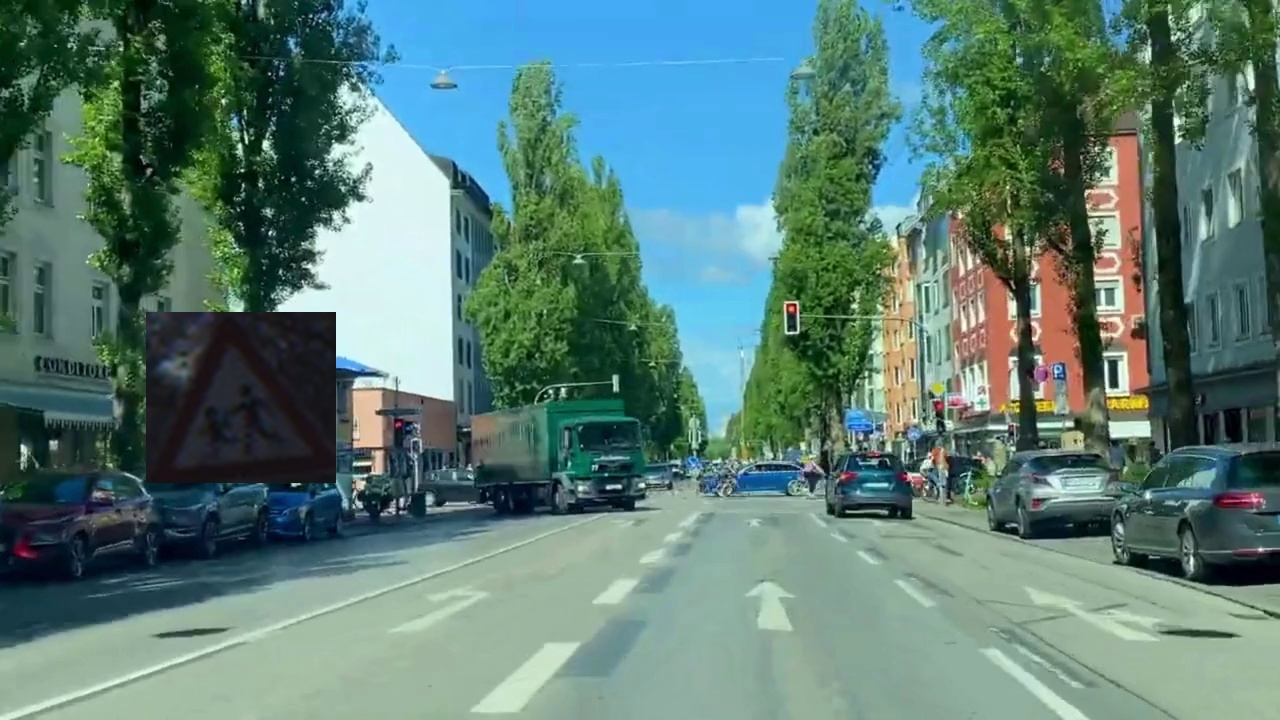Children: (146, 312, 336, 483)
